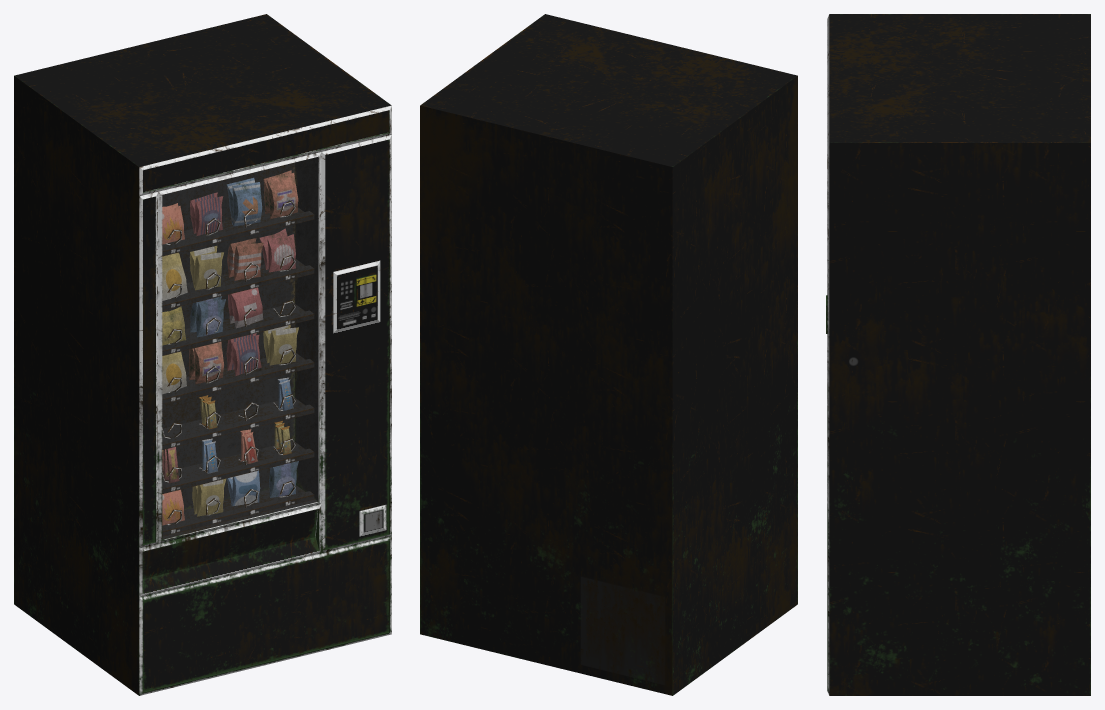
Rendered from maquina.glb.
The picture shows the model from 3 angles, left to right: view 1: azimuth 30°, elevation 25°; view 2: azimuth 150°, elevation 25°; view 3: azimuth 270°, elevation 25°; orthographic projection. The views are drawn at different scales.
Parts seen in each view (by area): view 1: Vend_Body_Vend_Body_0, Vend_Glass, Int Template_Vend_Int_0, Vend_bags_Vend_Bags_0; view 2: Vend_Body_Vend_Body_0; view 3: Vend_Body_Vend_Body_0.
Part boxes in pixels (<box>): Vend_Body_Vend_Body_0: <box>14,14,391,695</box>; Vend_Glass: <box>163,157,317,538</box>; Int Template_Vend_Int_0: <box>162,157,318,539</box>; Vend_bags_Vend_Bags_0: <box>162,170,298,525</box>; Vend_Body_Vend_Body_0: <box>420,14,797,695</box>; Vend_Body_Vend_Body_0: <box>826,14,1090,695</box>.
Bounding box in the file's own units: 42 × 84 × 36.46.
Materials: 4 (4 with a texture image).
